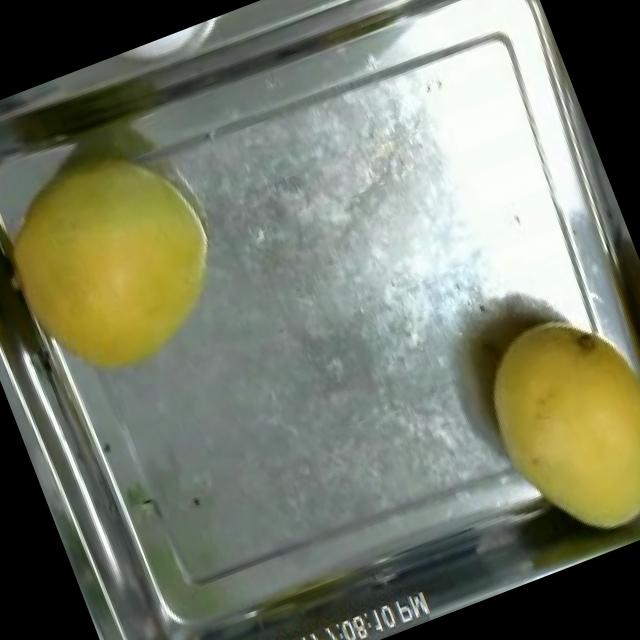fruit: (0, 96, 259, 411), (453, 278, 640, 568)
